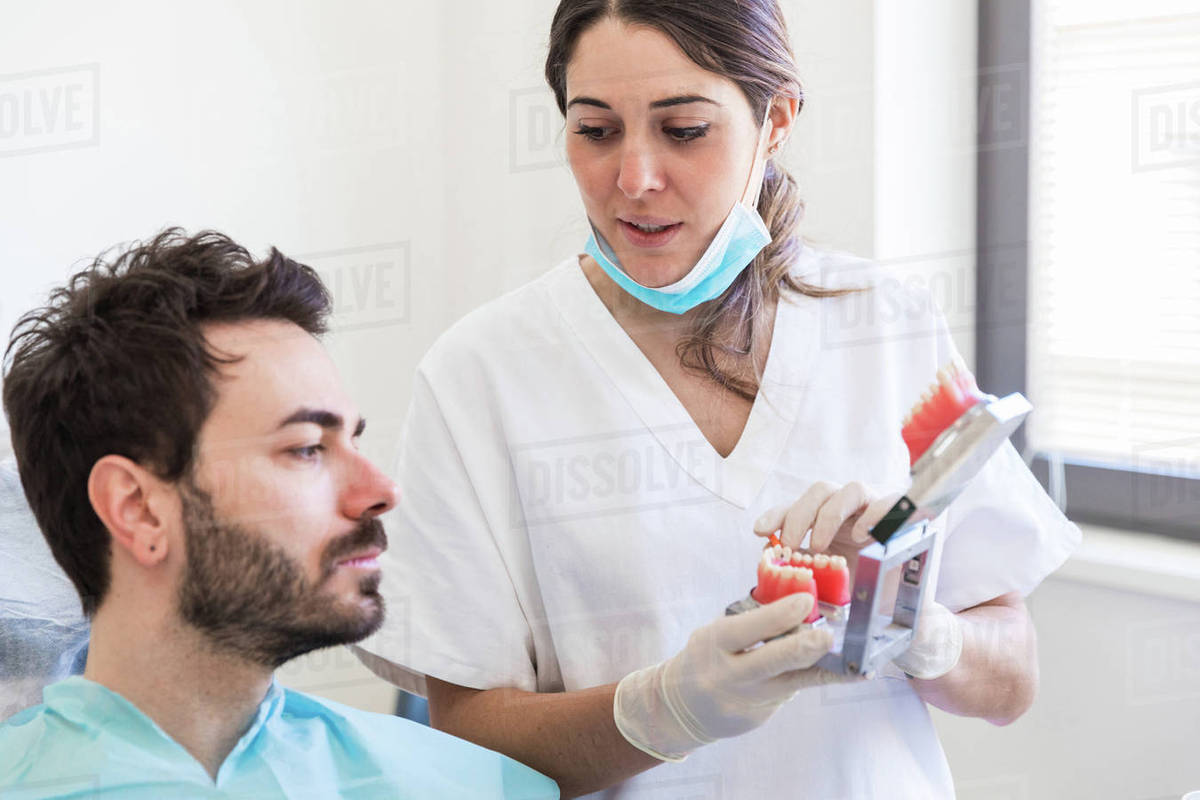mask_weared_incorrect: (542, 22, 810, 324)
